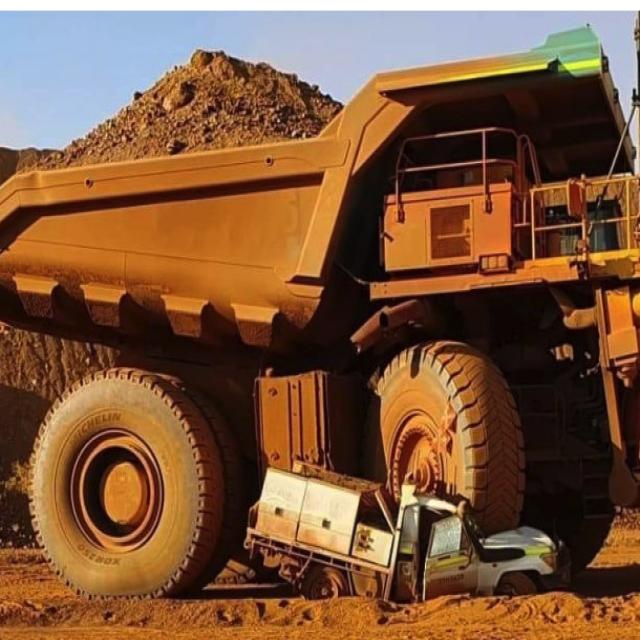dump_truck: (8, 41, 636, 583)
light_vehicle: (254, 445, 569, 612)
